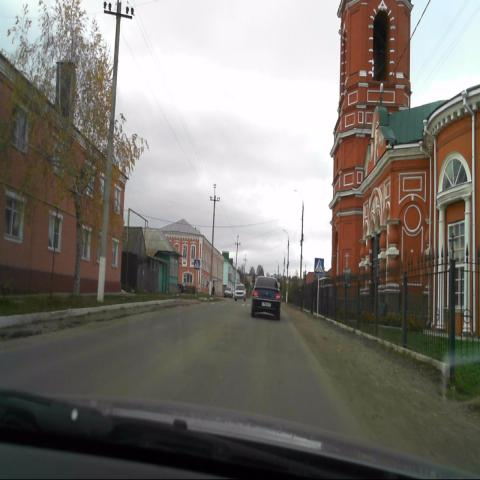5_19_1: (314, 258, 324, 274), (194, 259, 200, 269)
